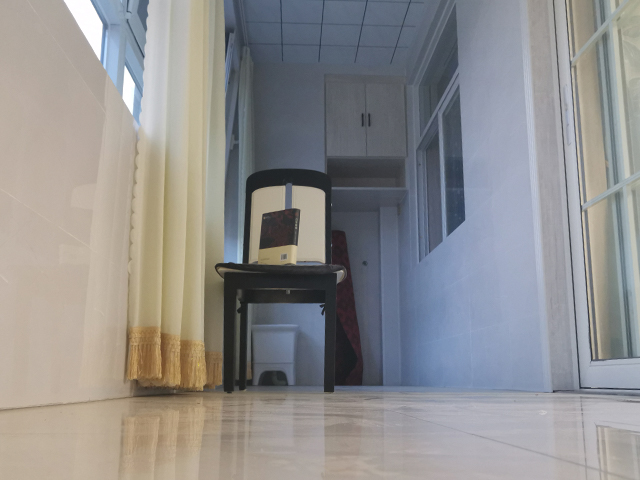book: (255, 206, 302, 268)
curtain: (122, 1, 229, 393)
stool: (212, 165, 348, 393)
